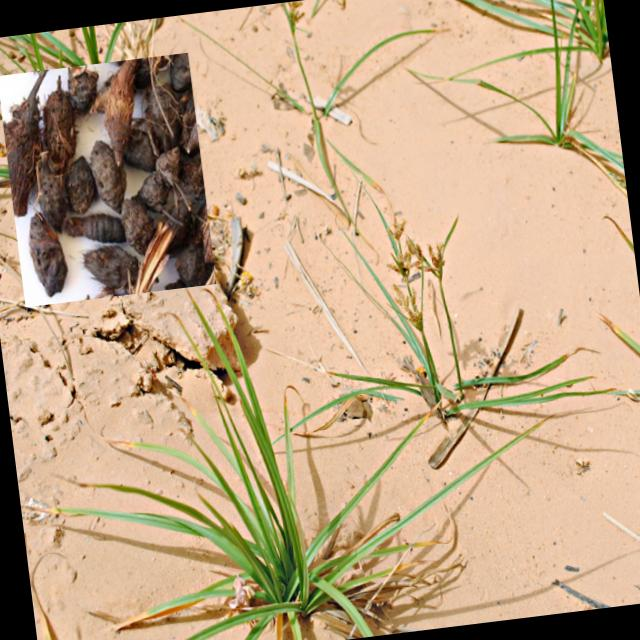cyperus: (382, 210, 457, 334)
